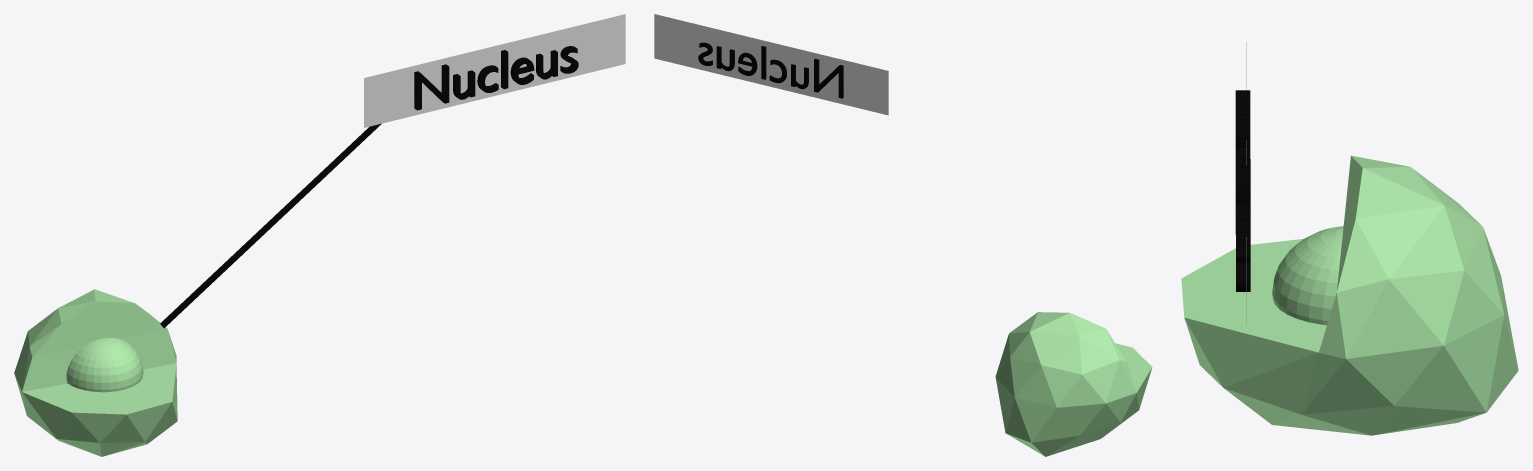
File: nucleus.gltf
The picture shows the model from 3 angles, left to right: view 1: azimuth 30°, elevation 25°; view 2: azimuth 150°, elevation 25°; view 3: azimuth 270°, elevation 25°; orthographic projection. The views are drawn at different scales.
Parts seen in each view (by area): view 1: Icosphere.003, Plane, Text, Plane.022; view 2: Icosphere.003, Plane, Text; view 3: Icosphere.003, Text.
Part boxes in pixels (x1,y1,x2,y2): Icosphere.003: (14, 289, 177, 456); Plane: (364, 14, 625, 127); Text: (414, 46, 578, 110); Plane.022: (160, 123, 381, 328); Icosphere.003: (995, 312, 1152, 456); Plane: (654, 14, 888, 115); Text: (698, 42, 843, 98); Icosphere.003: (1181, 155, 1518, 435); Text: (1235, 90, 1250, 291).
Size of the model in its own units: 2.91 by 1.61 by 0.8332.
